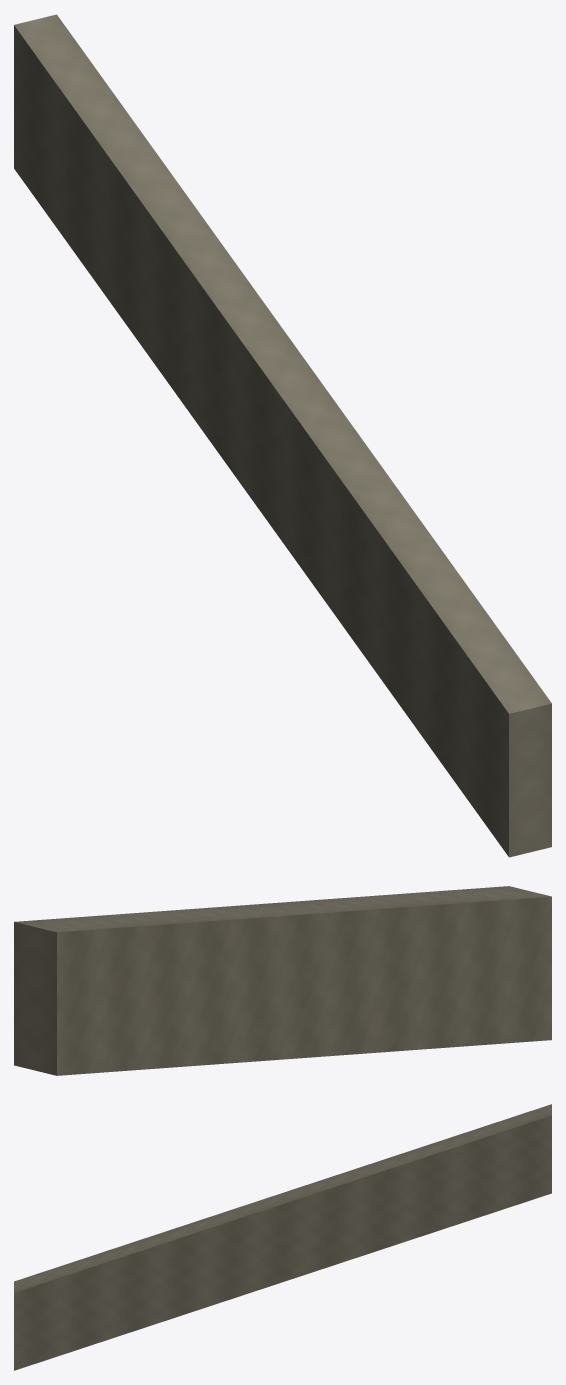
File: MRP_Fascia_Porch_Slope_1m.fbx
3 renders of one model, top to bottom at view 1: azimuth 30°, elevation 25°; view 2: azimuth 150°, elevation 25°; view 3: azimuth 270°, elevation 25°, orthographic. The views are drawn at different scales.
Visible parts, largest first — view 1: Body; view 2: Body; view 3: Body.
Boxes of the visible parts, <box> form: Body: <box>14,14,551,857</box>; Body: <box>14,886,551,1075</box>; Body: <box>14,1104,551,1370</box>.
Bounding box in the file's own units: 0.05 × 0.524 × 1.
